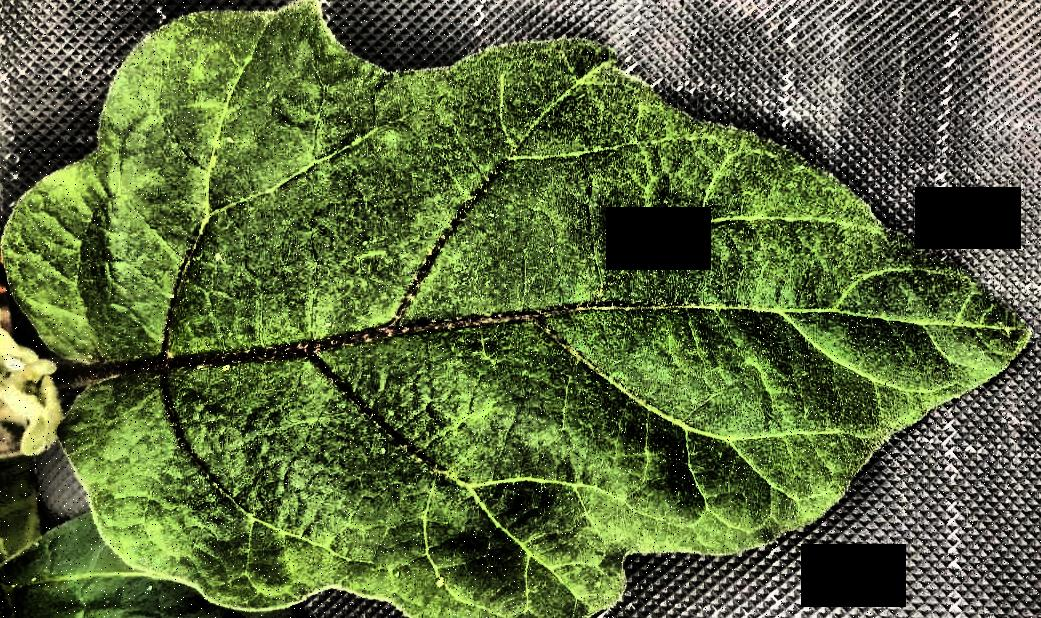HEALTHY: (0, 1, 1041, 618)
